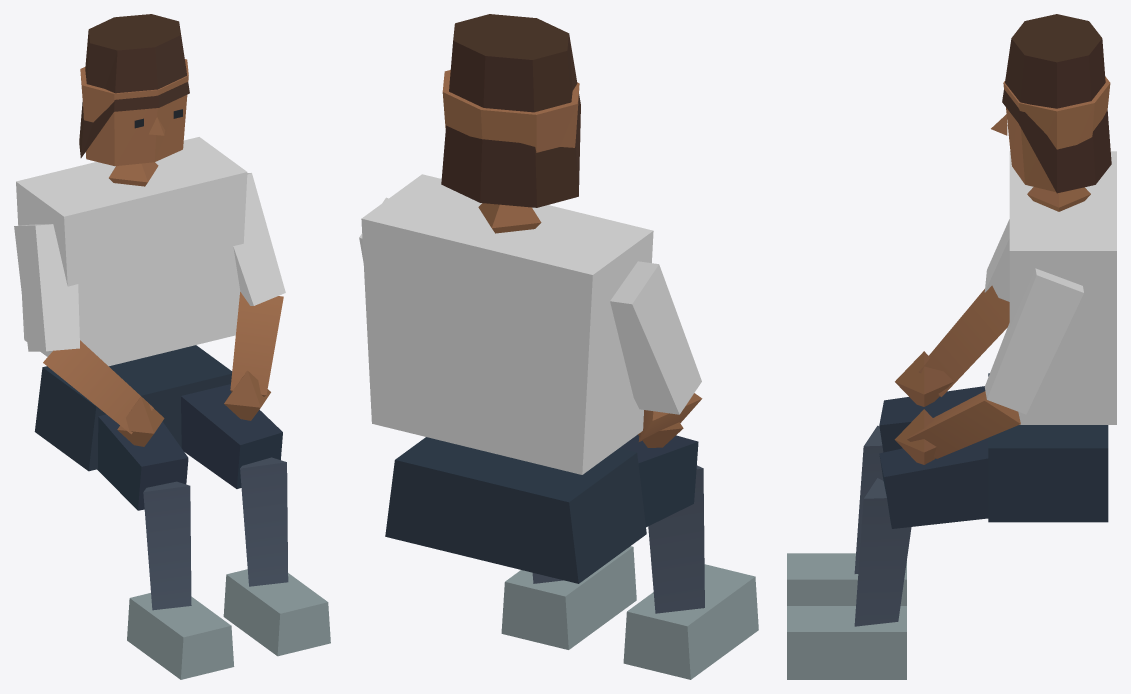
File: fan-06.glb
3 views of the same model, side by side, from view 1: azimuth 30°, elevation 25°; view 2: azimuth 150°, elevation 25°; view 3: azimuth 270°, elevation 25° (orthographic). The views are drawn at different scales.
Visible parts, largest first — view 1: fan-06; view 2: fan-06; view 3: fan-06.
Part boxes in pixels (left/top/right/bottom): fan-06: left=14, top=14, right=330, bottom=679; fan-06: left=359, top=14, right=758, bottom=679; fan-06: left=787, top=14, right=1116, bottom=679.
Size of the model in its own units: 0.7244 by 1.55 by 0.77.
